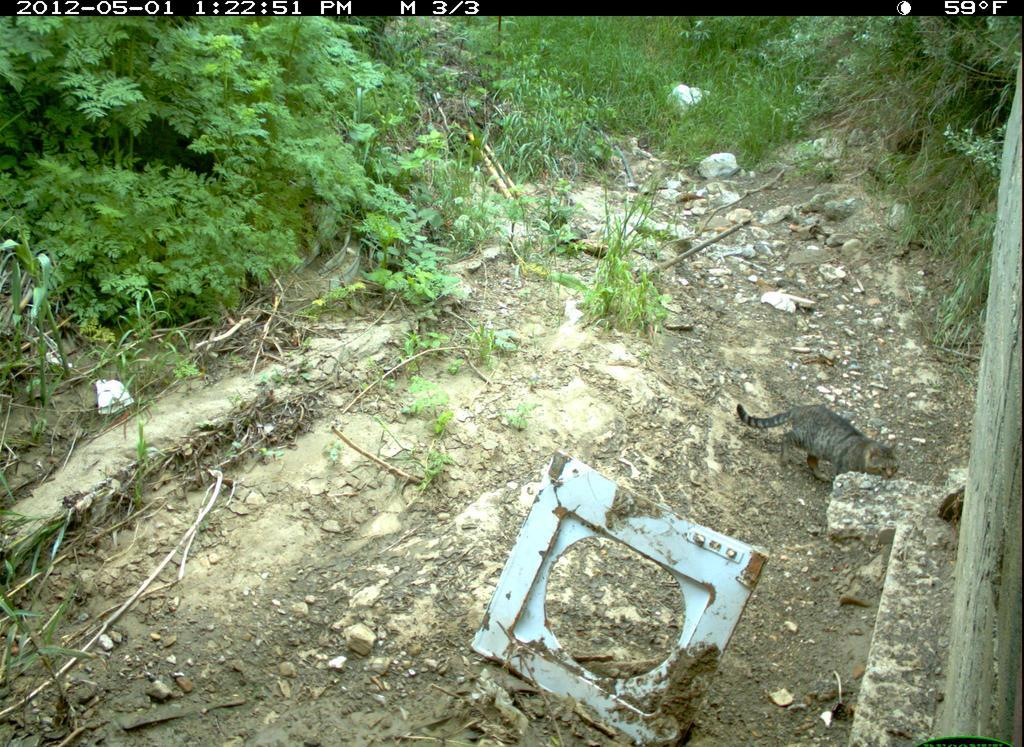cat: (734, 396, 908, 497)
